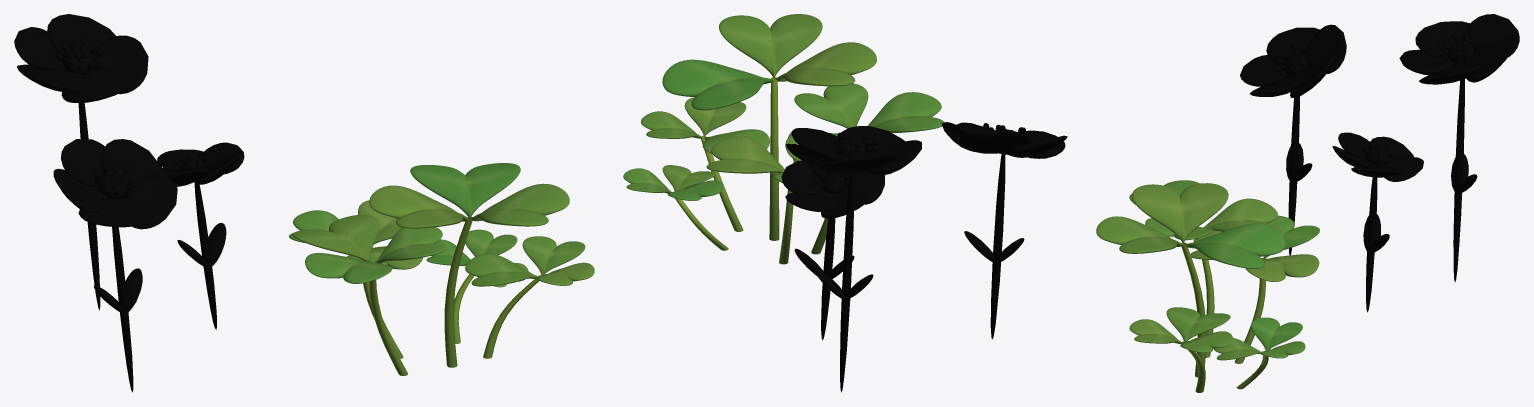
The model's file is SM_Painted_WoodlandBlooms.fbx.
The picture shows the model from 3 angles, left to right: view 1: azimuth 30°, elevation 25°; view 2: azimuth 150°, elevation 25°; view 3: azimuth 270°, elevation 25°; orthographic projection. The views are drawn at different scales.
Parts seen in each view (by area): view 1: SM_Painted_WoodlandBlooms; view 2: SM_Painted_WoodlandBlooms; view 3: SM_Painted_WoodlandBlooms.
Boxes of the visible parts, box(x1,y1,x2,y2) form: SM_Painted_WoodlandBlooms: box(14, 14, 594, 392); SM_Painted_WoodlandBlooms: box(623, 14, 1067, 392); SM_Painted_WoodlandBlooms: box(1096, 14, 1519, 392).
Size of the model in its own units: 60.68 by 33.62 by 52.88.
